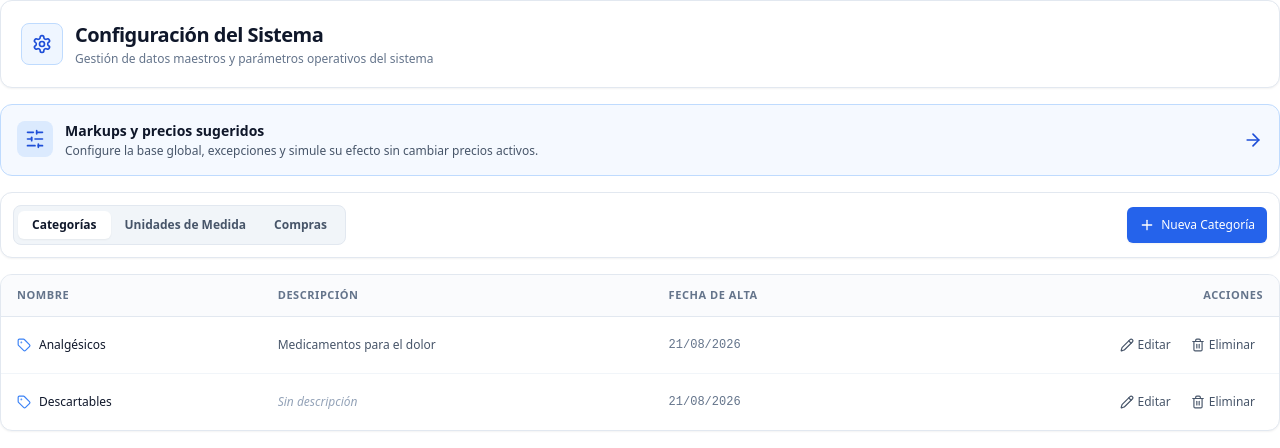
Test: SettingsPage master catalog management › Error and Empty States › displays error message and retry button when units query fails
The width and height of the screenshot is (1280, 448).
Expected: the heading "Configuración del Sistema" is shown, [75,21,323,48]
Click the tab "Unidades de Medida" at (185,225), box [110,211,260,239]
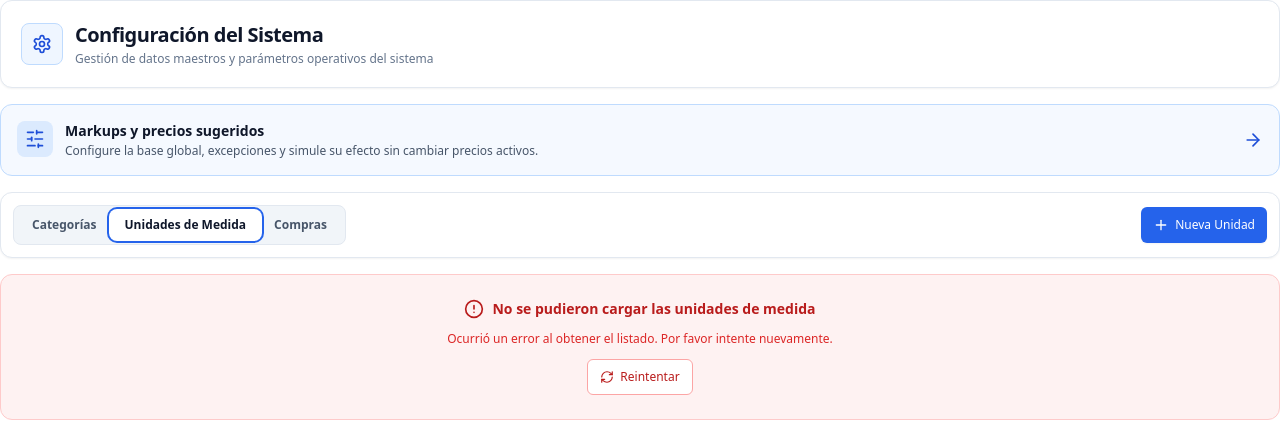
Expected: the text "No se pudieron cargar las unidades de medida" is shown, [492,299,816,319]
Expected: the button "Reintentar" is shown, [587,359,693,395]
